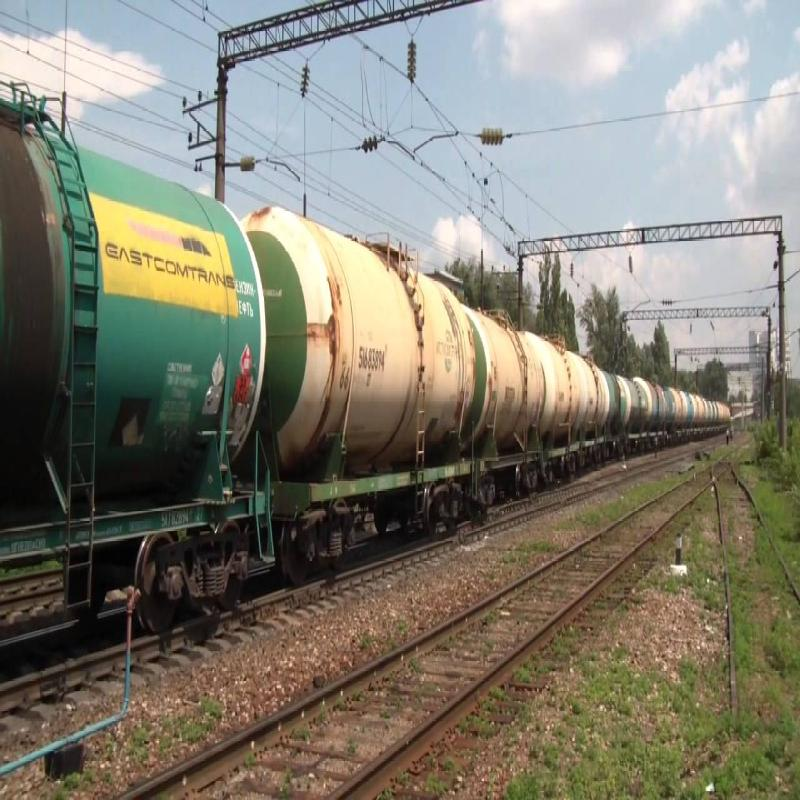train: (1, 81, 271, 630), (223, 219, 485, 560), (452, 288, 556, 502), (531, 319, 626, 479)
